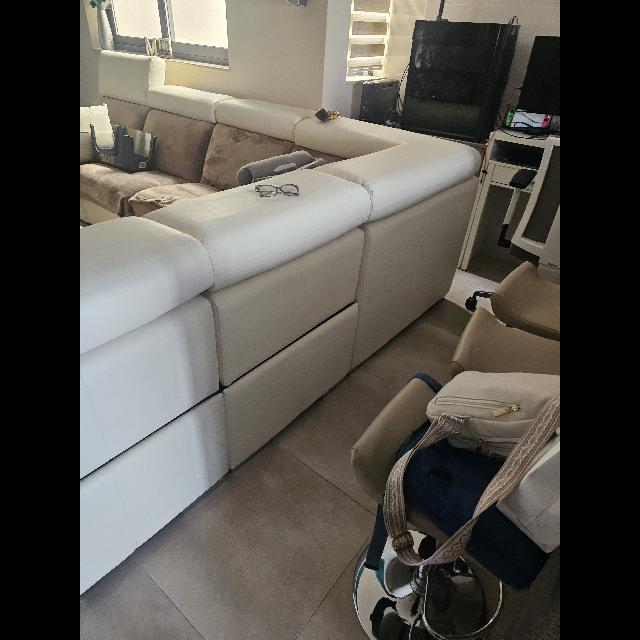glasses: (255, 185, 299, 198)
